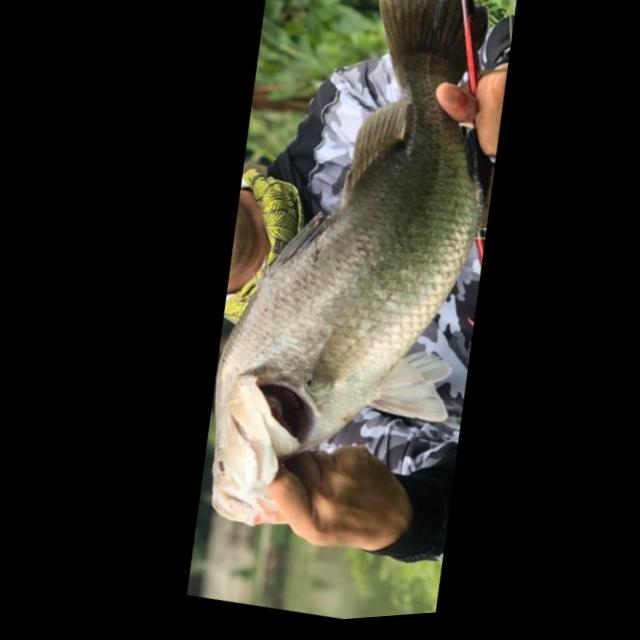Seabass: (146, 0, 559, 566)
